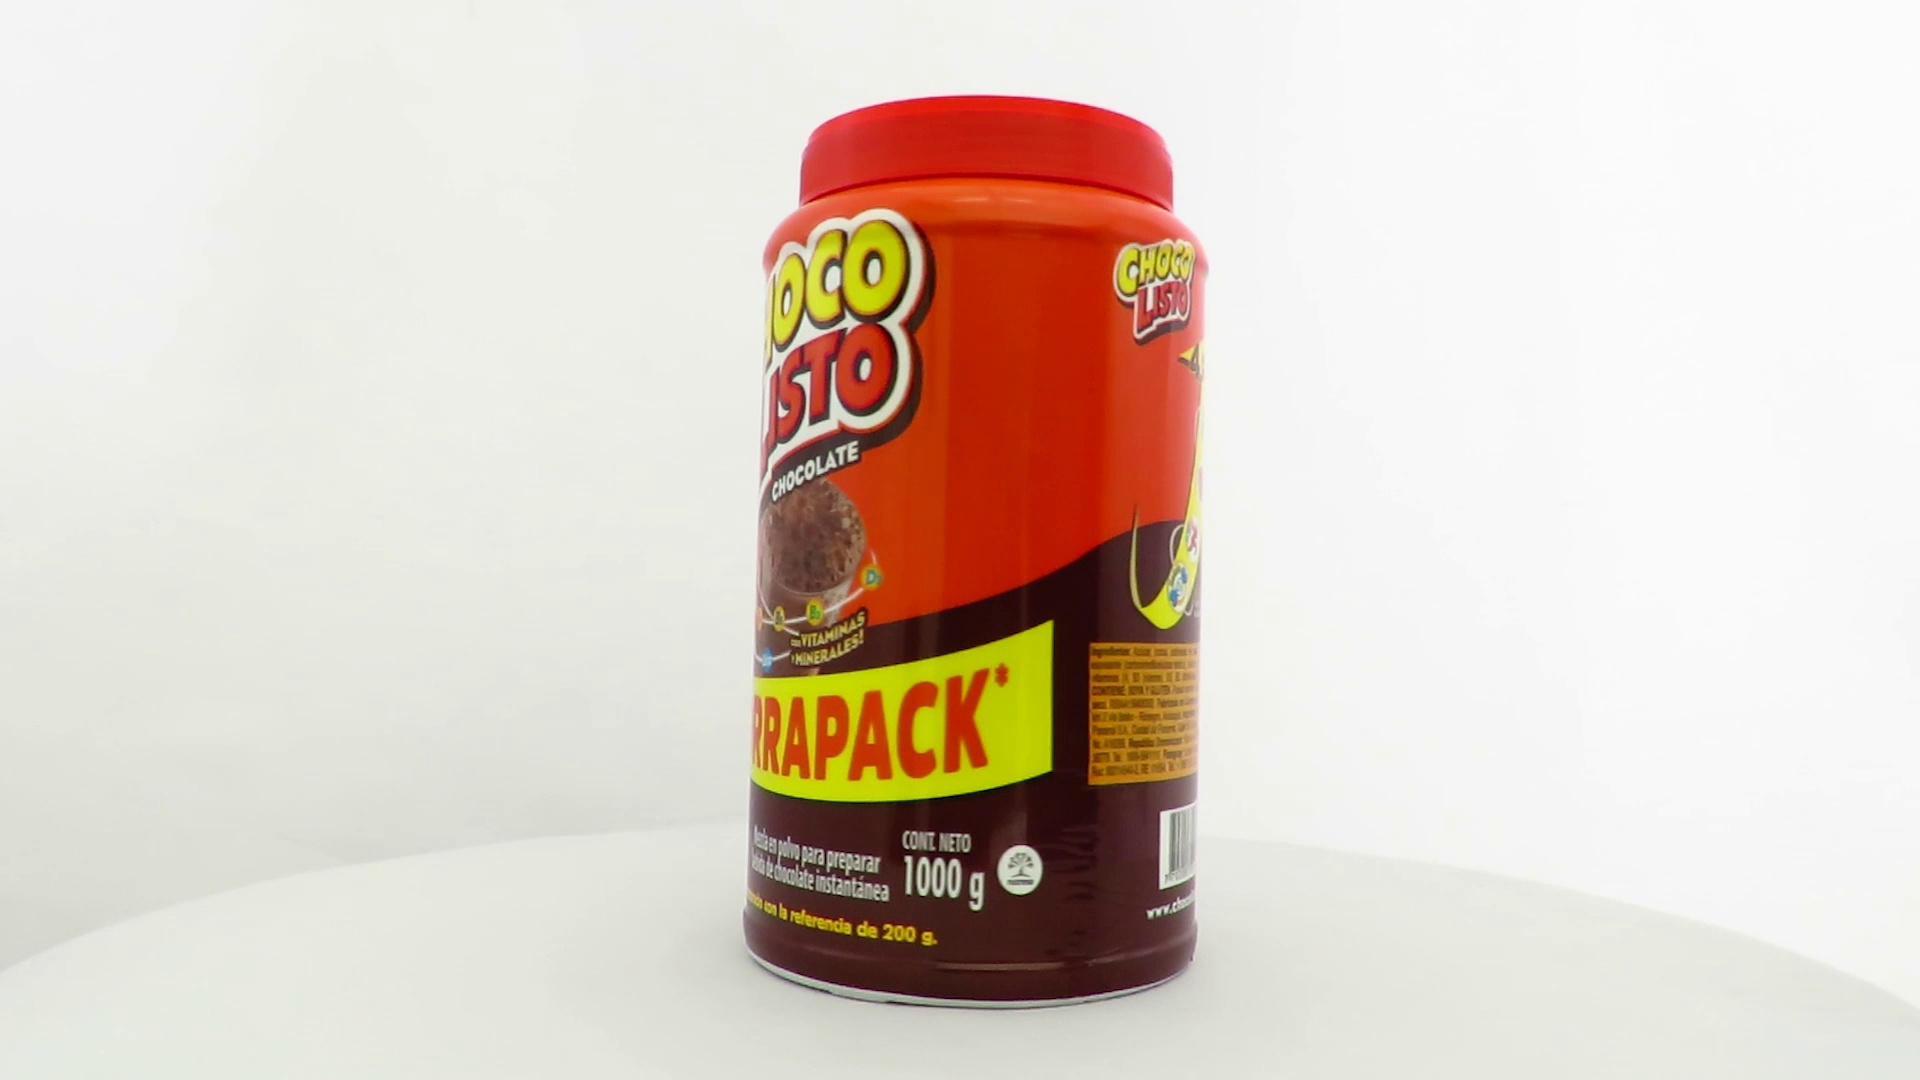COL0170103TRR00100: (738, 90, 1211, 1017)
